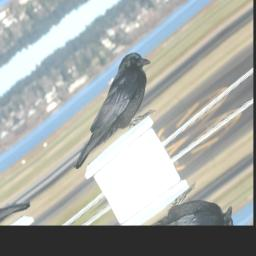Crow: (45, 43, 171, 173)
